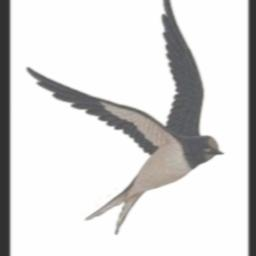Swallow: (26, 0, 225, 233)
